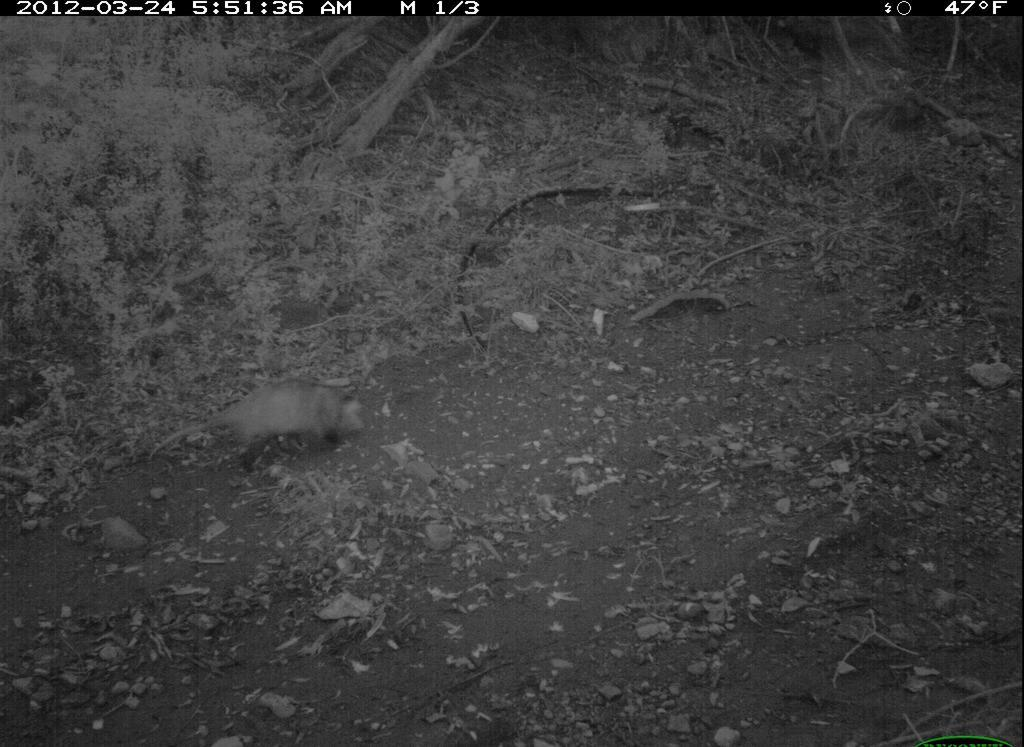opossum: (148, 374, 376, 481)
